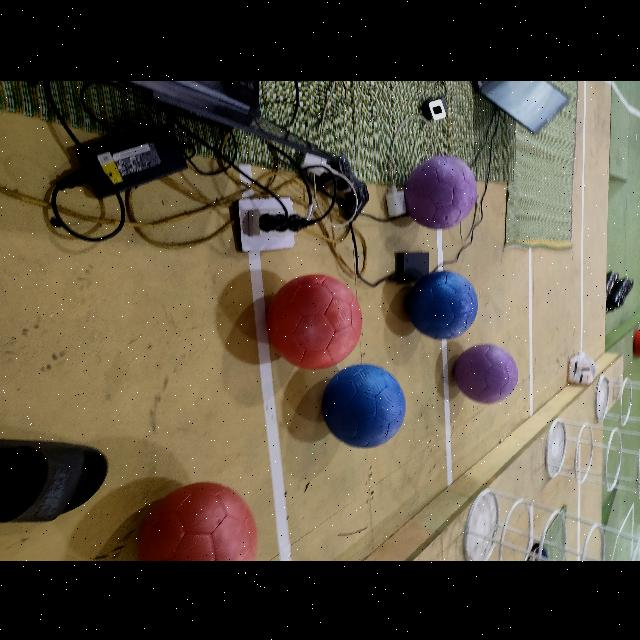B: (322, 363, 406, 447), (408, 270, 478, 338)
P: (405, 154, 477, 228), (455, 343, 519, 403)
R: (139, 482, 257, 560), (268, 274, 362, 368)
